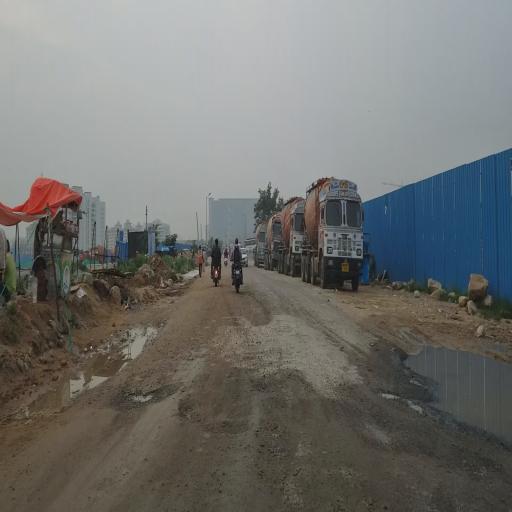street_light_0: (201, 188, 214, 201)
